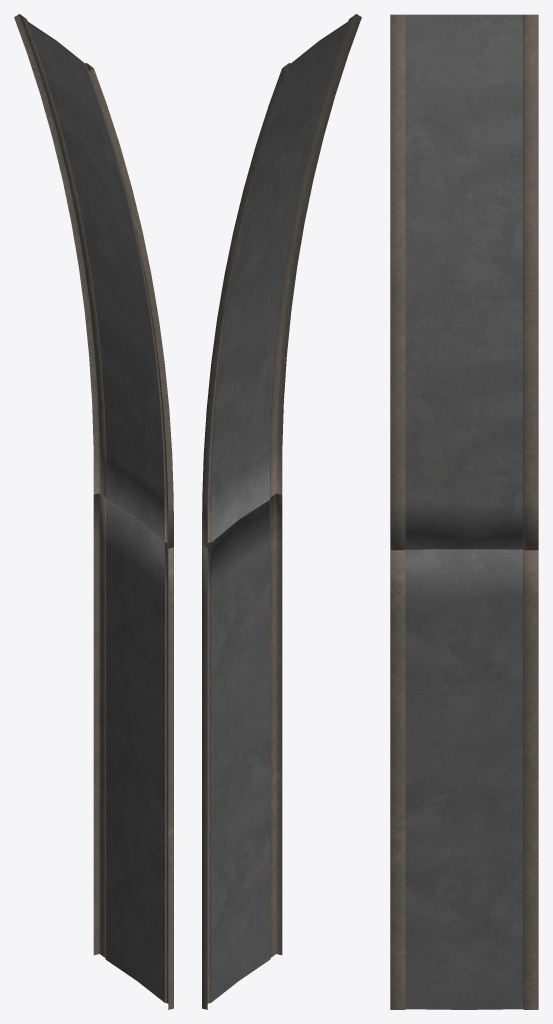
Rendered from cP_Pathway01_v02_CurveUpStraight.dae.
3 views of the same model, side by side, from view 1: azimuth 30°, elevation 25°; view 2: azimuth 150°, elevation 25°; view 3: azimuth 270°, elevation 25° (orthographic).
Parts seen in each view (by area): view 1: cP_Pathway01_v02_CurveUpStraight.001; view 2: cP_Pathway01_v02_CurveUpStraight.001; view 3: cP_Pathway01_v02_CurveUpStraight.001.
Boxes of the visible parts, x1=… form: cP_Pathway01_v02_CurveUpStraight.001: x1=14, y1=14, x2=173, y2=1009; cP_Pathway01_v02_CurveUpStraight.001: x1=202, y1=14, x2=361, y2=1009; cP_Pathway01_v02_CurveUpStraight.001: x1=390, y1=14, x2=538, y2=1009.
Size of the model in its own units: 1.3 by 1.95 by 13.87.
